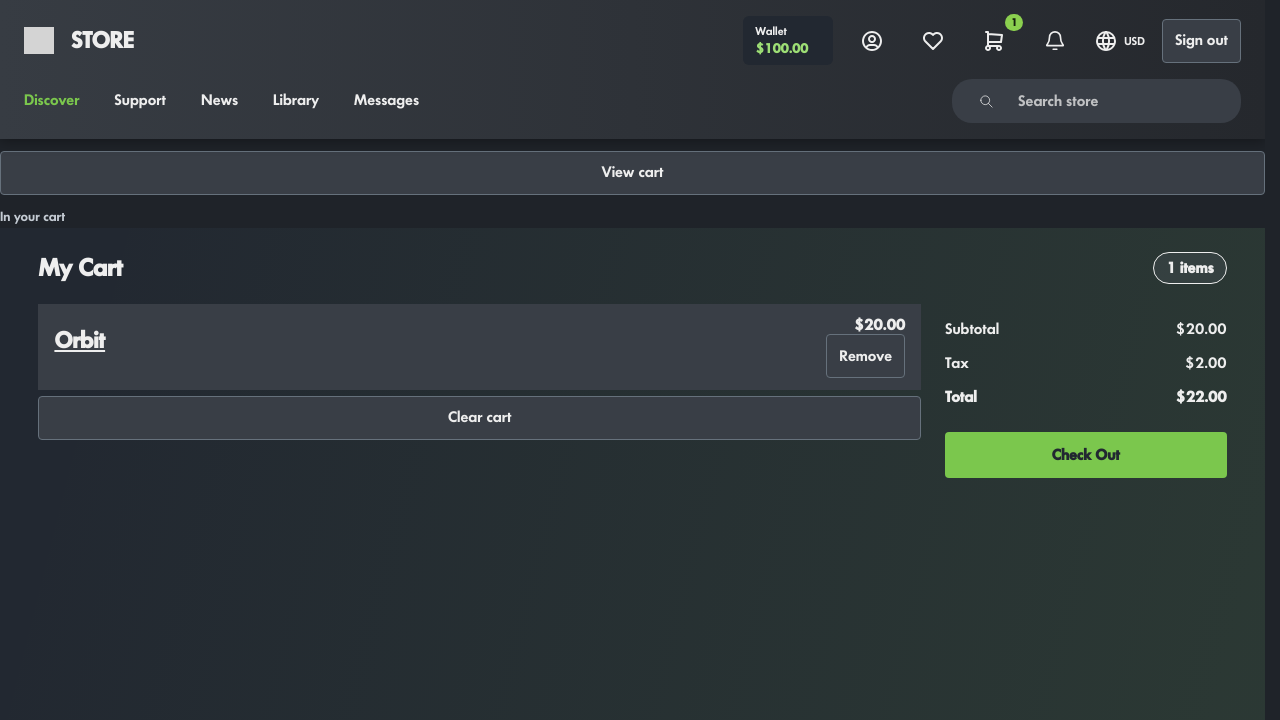
confirms a paid wallet order immediately while the refreshed balance is still pending
Later steps or results of the test are not shown.
Click the button "Check Out" at (1086, 455), box [945,432,1227,478]
(page scrolled)
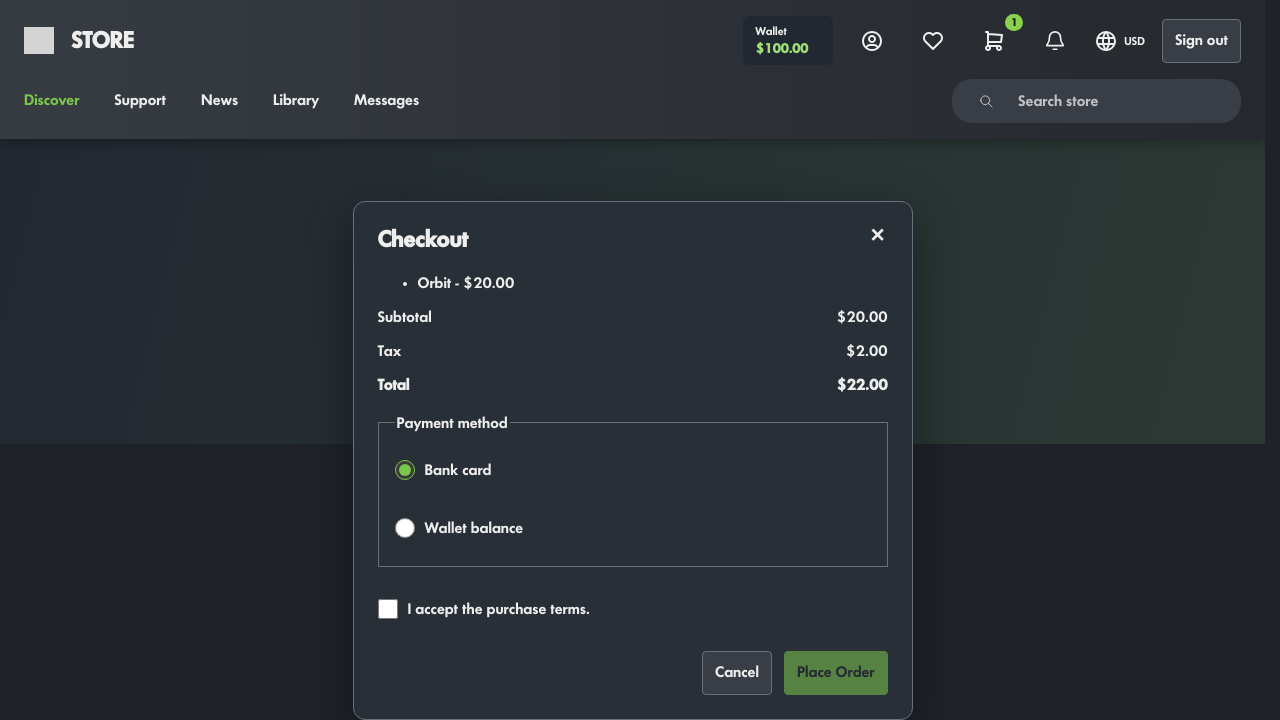
Click the radio button labelled "Wallet balance" at (404, 528), box [394,518,414,538]
(page scrolled)
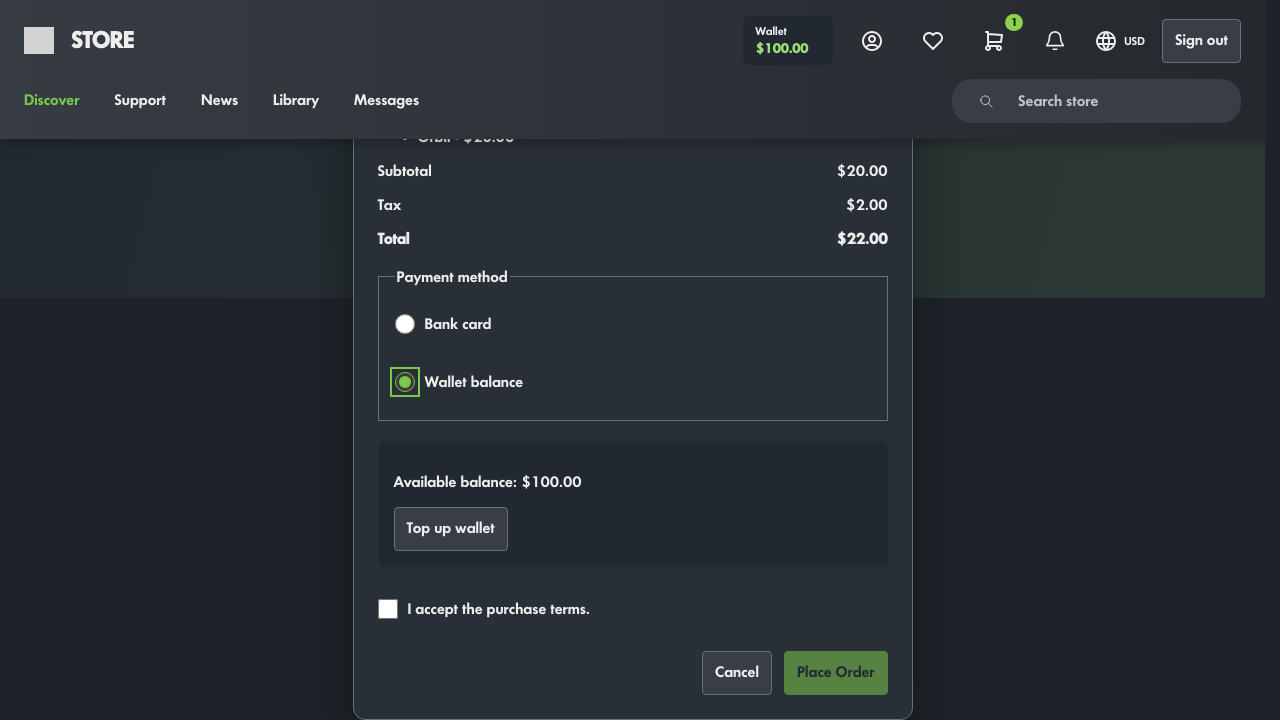
Click the checkbox at (388, 609), box [378,599,398,619]
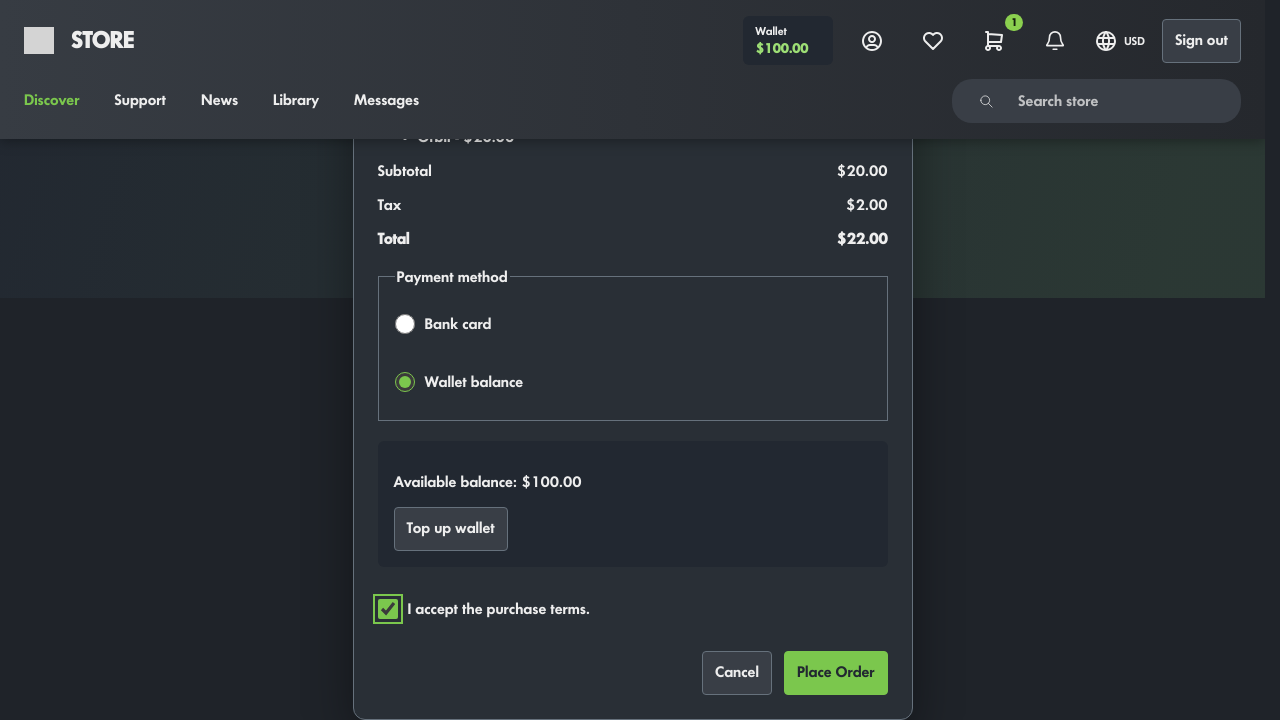
Click the button "Place Order" at (836, 673), box [784,651,888,695]
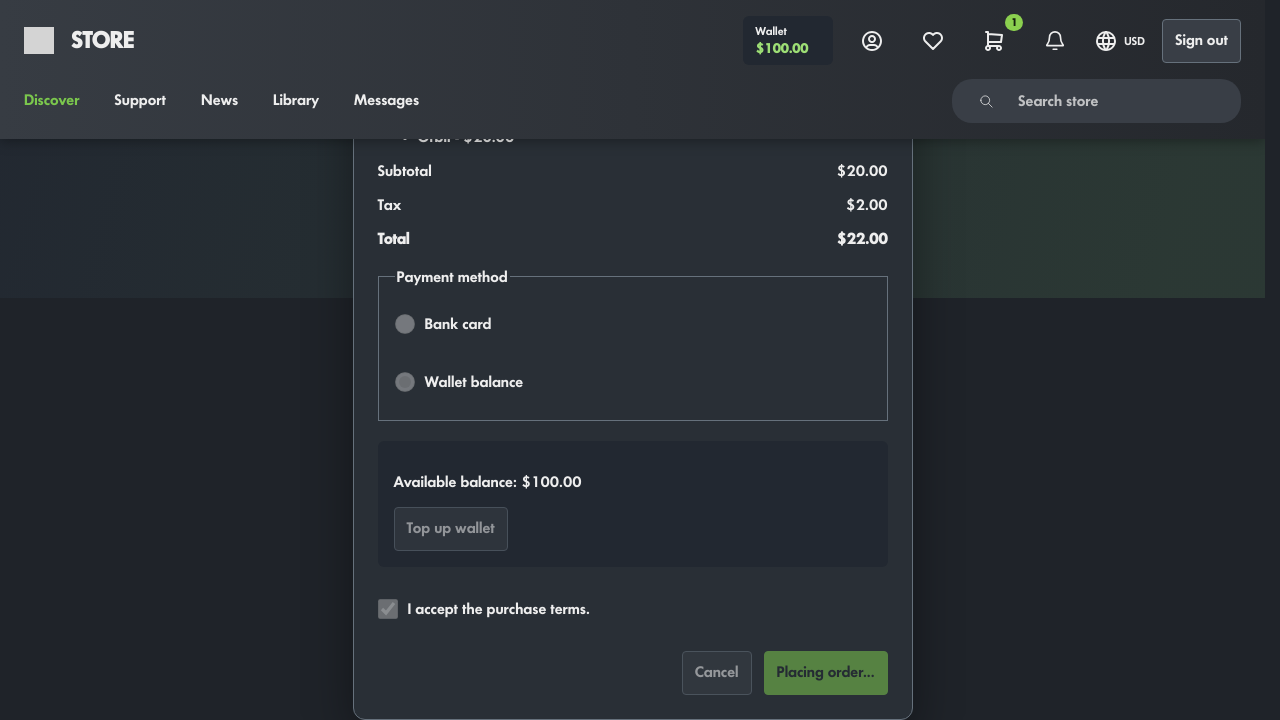
Expected: the button "Placing order..." is disabled
Expected: the button "Cancel" is disabled, [682,651,752,695]
Click the button "Placing order..." at (826, 673), box [764,651,888,695]
(page scrolled)
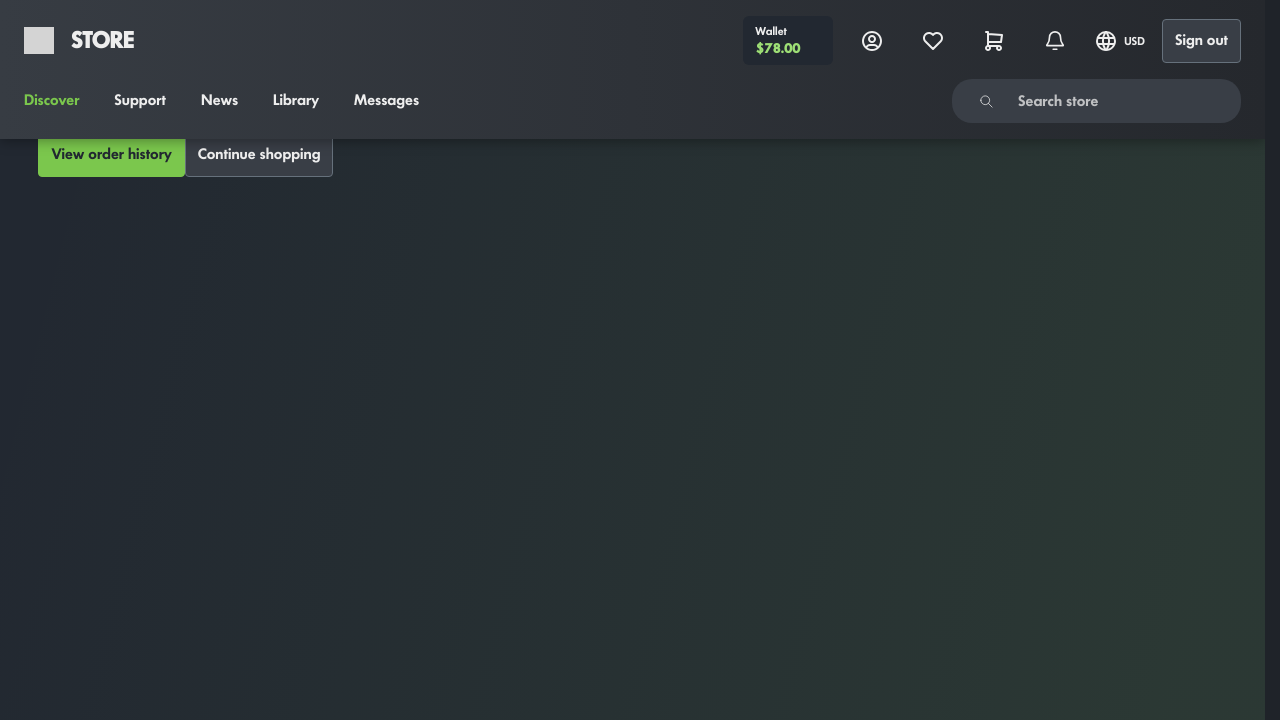
Expected: the heading "Order #99" is shown, [38,19,145,43]
Expected: the dialog is gone
Expected: the link with aria-label "Open wallet" shows "$78.00", [743,16,833,65]
